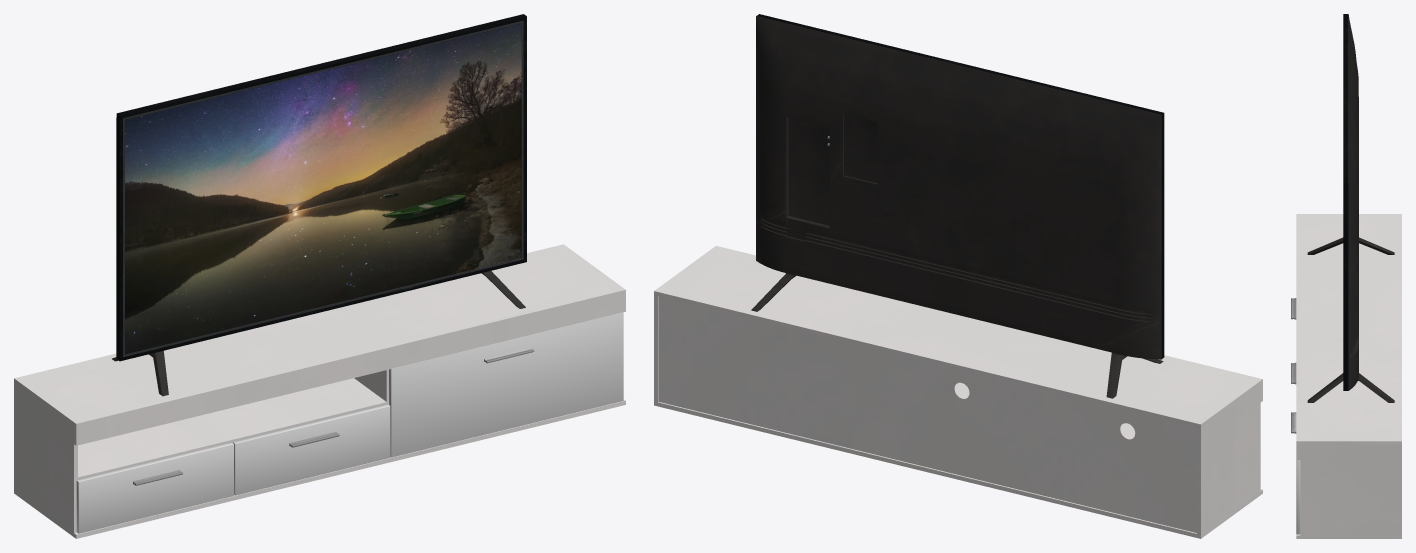
3 renders of one model, left to right at view 1: azimuth 30°, elevation 25°; view 2: azimuth 150°, elevation 25°; view 3: azimuth 270°, elevation 25°, orthographic. The views are drawn at different scales.
Visible parts, largest first — view 1: Screen, Frame, Door, Drawer_L, Drawer_R, Frame_01, Frame_02, Base; view 2: Box, Frame, Frame_01, Base; view 3: Frame, Box, Frame_01, Base, Door.
Part boxes in pixels (x1,y1,x2,y2): Screen: (125, 23, 521, 354); Frame: (14, 244, 625, 538); Door: (389, 312, 623, 457); Drawer_L: (76, 442, 233, 533); Drawer_R: (233, 404, 390, 495); Frame_01: (117, 14, 526, 361); Frame_02: (123, 20, 523, 356); Base: (112, 271, 525, 396); Box: (756, 16, 1161, 359); Frame: (654, 246, 1262, 538); Frame_01: (757, 14, 1164, 358); Base: (751, 273, 1163, 398); Frame: (1296, 214, 1401, 538); Box: (1348, 14, 1358, 390); Frame_01: (1343, 14, 1348, 390); Base: (1307, 237, 1394, 402); Door: (1291, 412, 1300, 534).
Bounding box in the file's own units: 2.1 × 1.42 × 0.4331.
11 materials, 7 textured.
